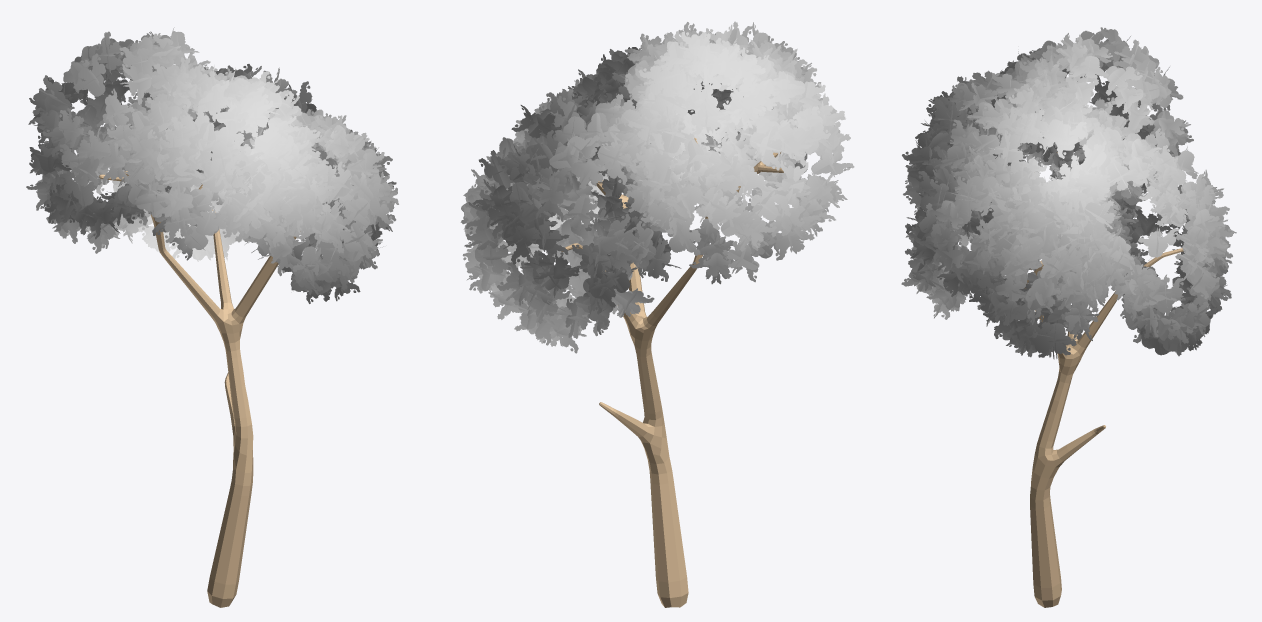
Rendered from SM_Tree_1.1.fbx.
3 renders of one model, left to right at view 1: azimuth 30°, elevation 25°; view 2: azimuth 150°, elevation 25°; view 3: azimuth 270°, elevation 25°, orthographic. The views are drawn at different scales.
Visible parts, largest first — view 1: Leaves, Trunk_1; view 2: Leaves, Trunk_1; view 3: Leaves, Trunk_1.
Part boxes in pixels (<box>): Leaves: <box>26,27,398,303</box>; Trunk_1: <box>99,171,300,607</box>; Leaves: <box>460,21,854,353</box>; Trunk_1: <box>561,137,783,607</box>; Leaves: <box>901,27,1236,359</box>; Trunk_1: <box>1024,152,1183,607</box>.
Bounding box in the file's own units: 371 × 601 × 351.
